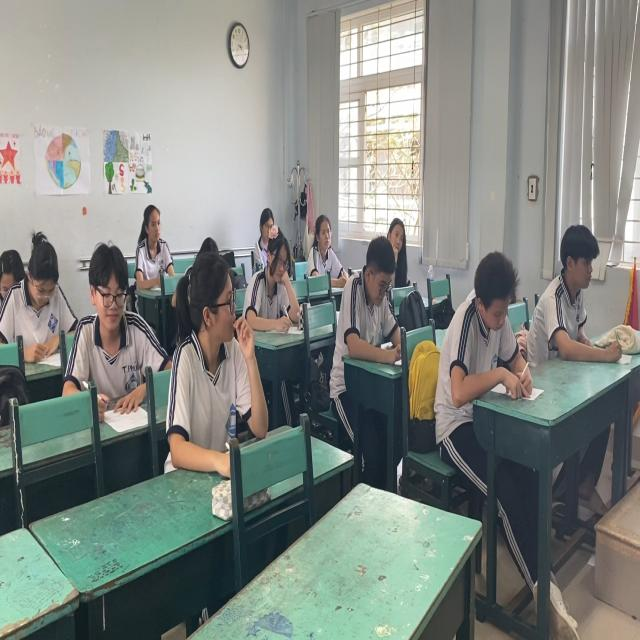cheating: (169, 246, 258, 447)
not_cheating: (435, 254, 522, 395), (71, 247, 149, 398), (532, 218, 601, 350), (0, 222, 73, 342), (240, 205, 304, 333), (340, 239, 406, 343), (128, 202, 173, 284), (303, 202, 349, 280), (383, 218, 409, 264)
